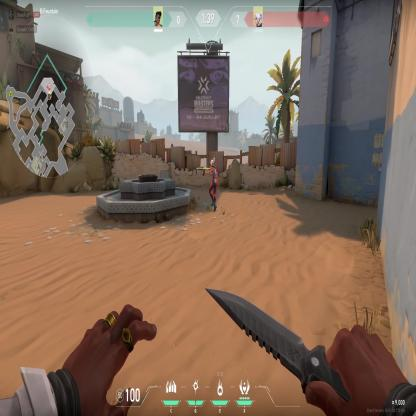enemy: (206, 158, 219, 214)
